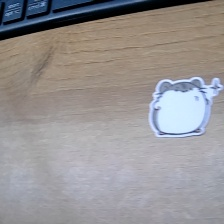mouse: (146, 72, 224, 145)
